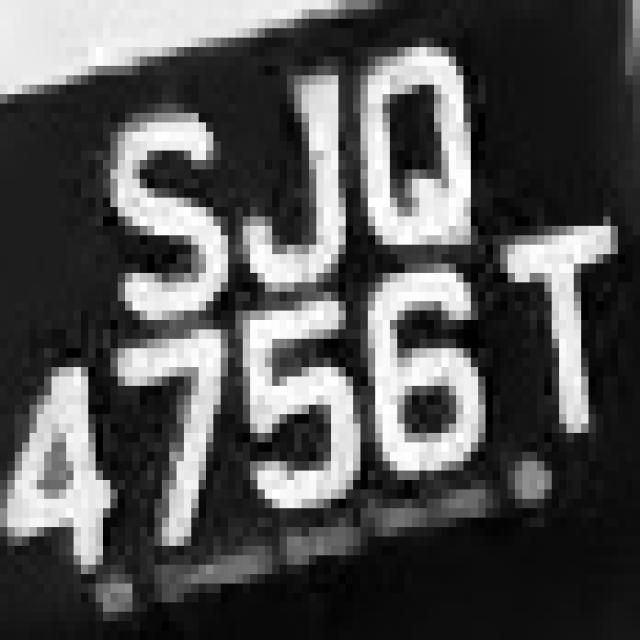4: (7, 320, 125, 593)
5: (221, 273, 353, 527)
6: (353, 245, 500, 508)
7: (125, 301, 250, 565)
J: (206, 56, 360, 292)
Q: (346, 19, 486, 282)
S: (81, 85, 235, 329)
T: (500, 222, 637, 438), (6, 3, 8, 7)
